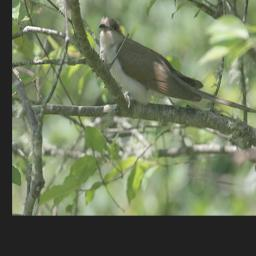Cuckoo: (99, 15, 256, 118)
